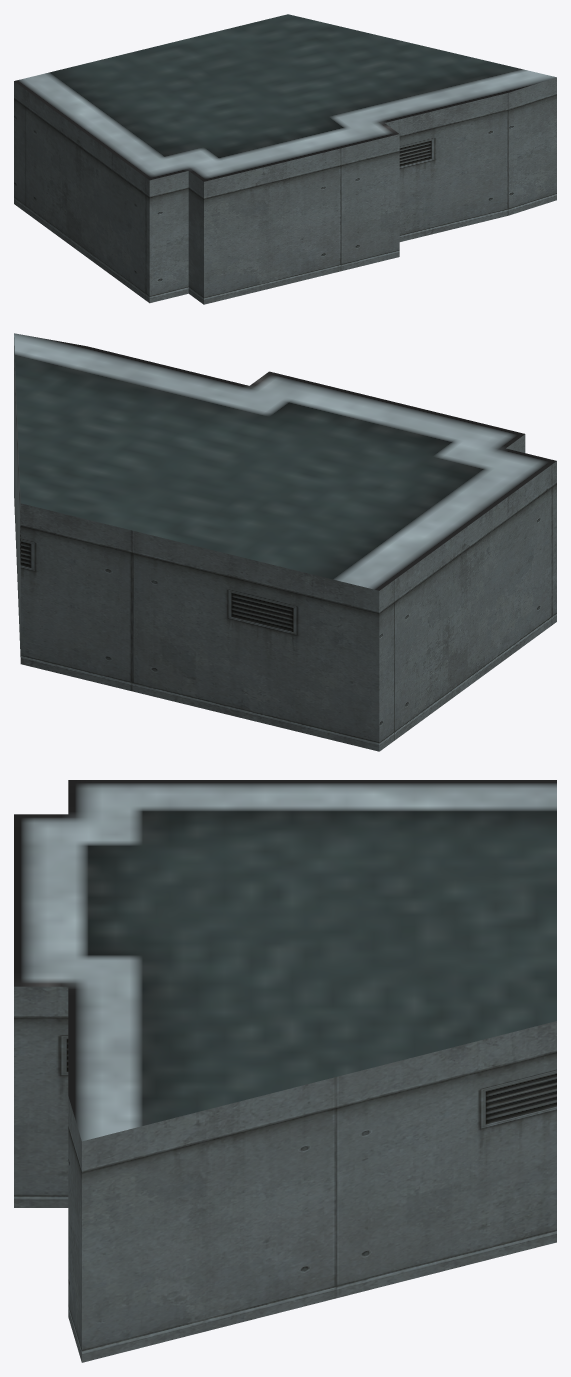
Rendered from medium_roof03.glb.
3 views of the same model, one above another, from view 1: azimuth 30°, elevation 25°; view 2: azimuth 150°, elevation 25°; view 3: azimuth 270°, elevation 25° (orthographic). The views are drawn at different scales.
Parts seen in each view (by area): view 1: buildings/saxarba/medium/medium_roof03; view 2: buildings/saxarba/medium/medium_roof03; view 3: buildings/saxarba/medium/medium_roof03.
Boxes of the visible parts, x1,y1,x2,y2 form: buildings/saxarba/medium/medium_roof03: (14, 14, 556, 304); buildings/saxarba/medium/medium_roof03: (14, 333, 556, 751); buildings/saxarba/medium/medium_roof03: (14, 780, 556, 1362).
Size of the model in its own units: 63 by 18 by 40.
